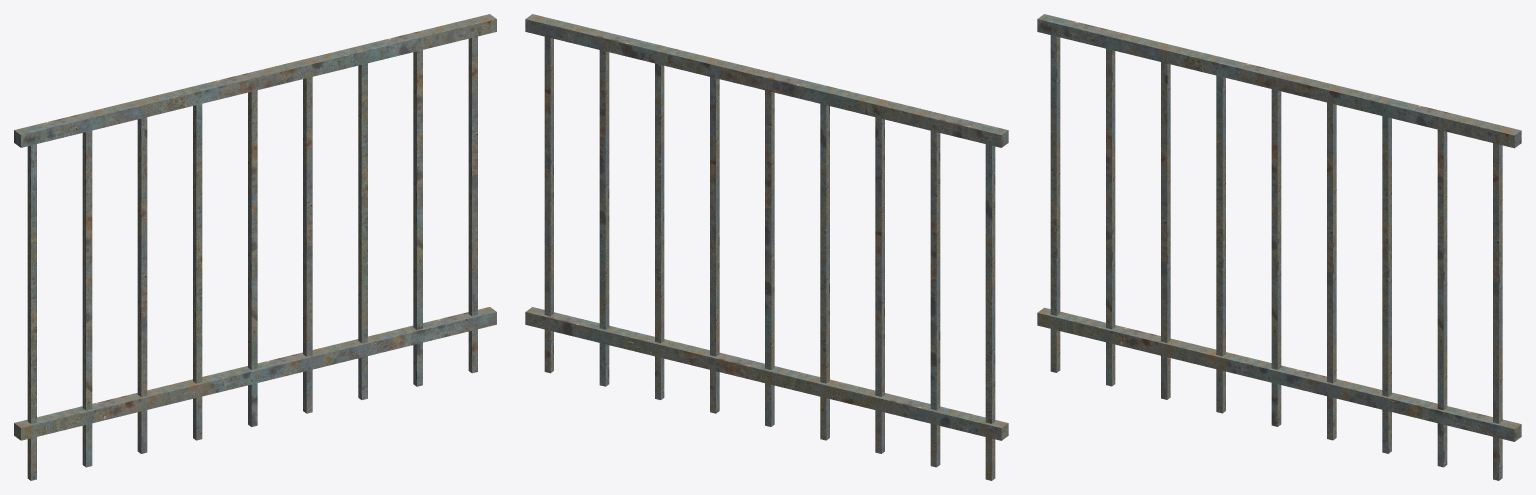
File: fence24.FBX
3 views of the same model, side by side, from view 1: azimuth 30°, elevation 25°; view 2: azimuth 150°, elevation 25°; view 3: azimuth 330°, elevation 25° (orthographic).
Parts seen in each view (by area): view 1: metal_fence_small_basic; view 2: metal_fence_small_basic; view 3: metal_fence_small_basic.
Boxes of the visible parts, x1,y1,x2,y2 form: metal_fence_small_basic: (14, 14, 496, 480); metal_fence_small_basic: (525, 14, 1008, 480); metal_fence_small_basic: (1037, 14, 1521, 480).
Size of the model in its own units: 247 by 173 by 6.3.
